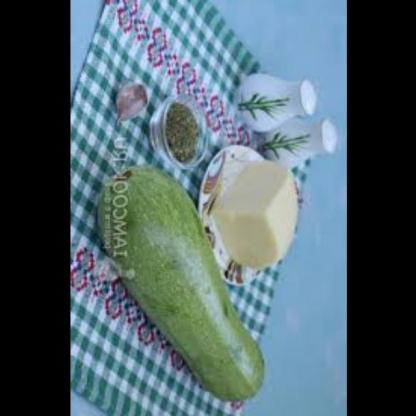vegetable marrow: (92, 145, 275, 405)
